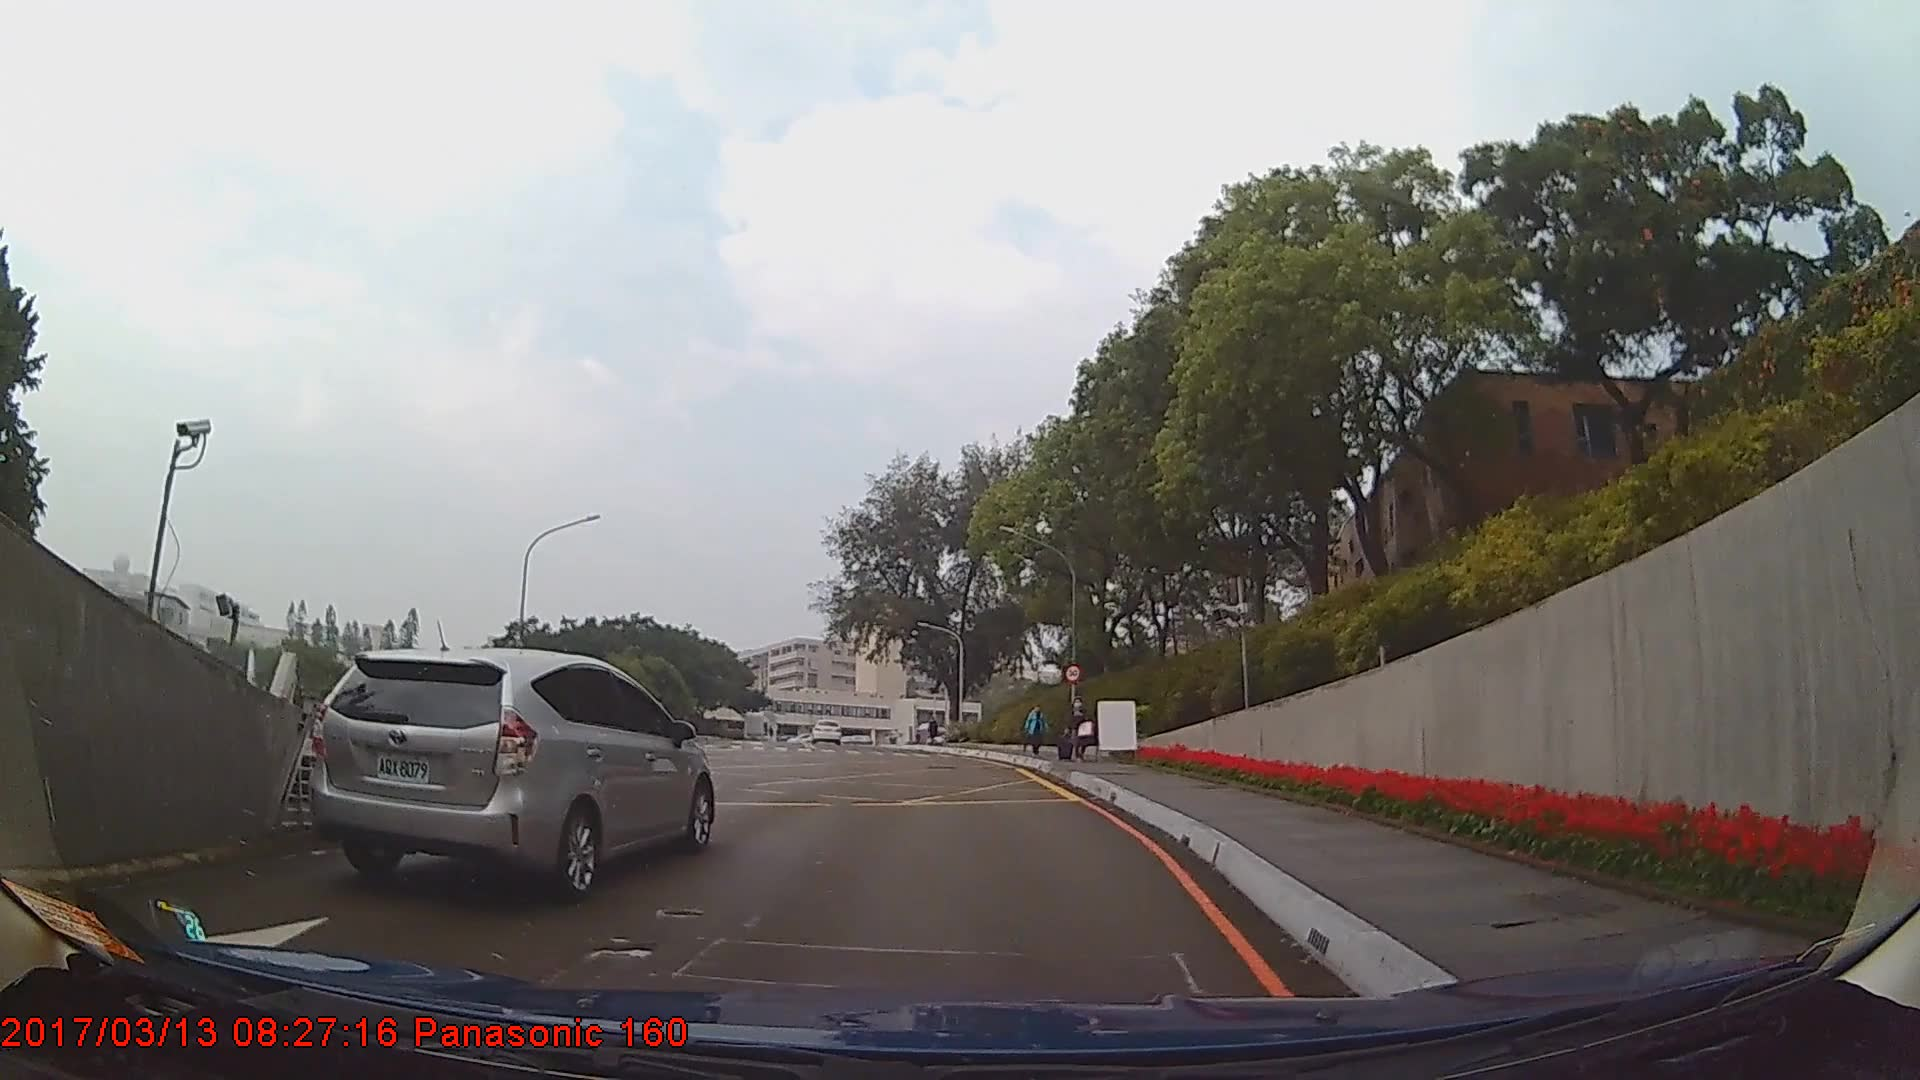pedestrian: (1058, 692, 1097, 760), (1026, 705, 1050, 759)
vehicle: (303, 645, 715, 895), (808, 715, 840, 742)
